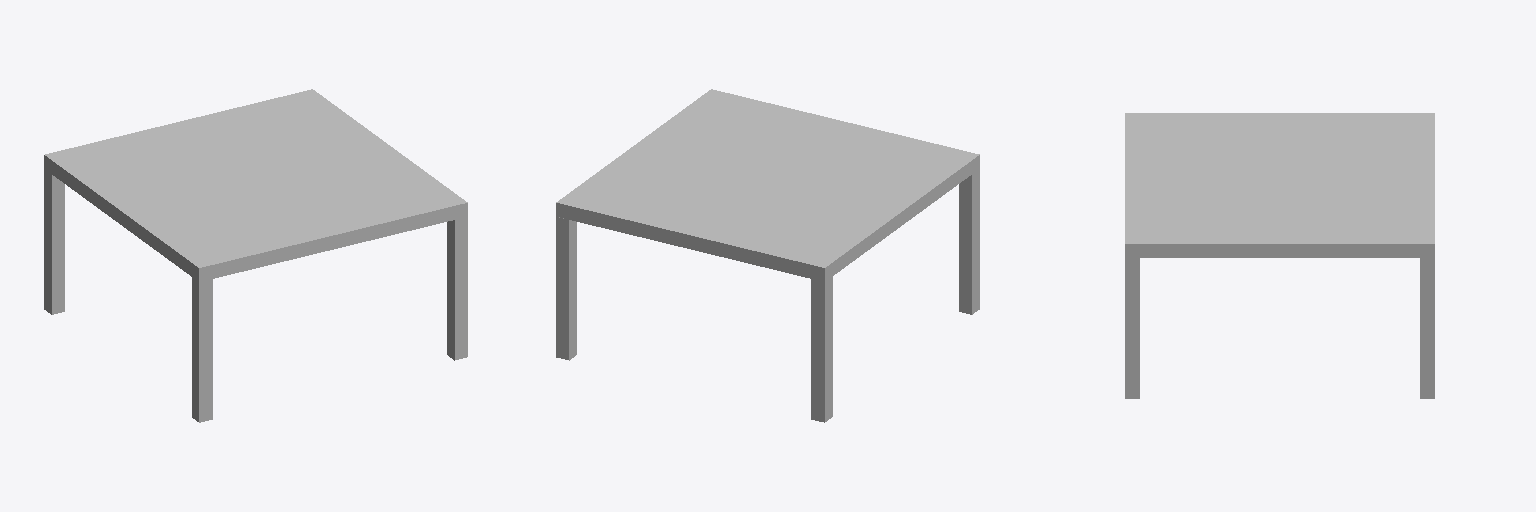
The model's file is table1.obj.
The picture shows the model from 3 angles: view 1: azimuth 30°, elevation 25°; view 2: azimuth 150°, elevation 25°; view 3: azimuth 270°, elevation 25°; orthographic projection.
Visible parts, largest first — view 1: Table; view 2: Table; view 3: Table.
Boxes of the visible parts, x1,y1,x2,y2 form: Table: [44, 89, 467, 422]; Table: [556, 89, 979, 422]; Table: [1125, 113, 1434, 398].
Size of the model in its own units: 2 by 1.1 by 2.